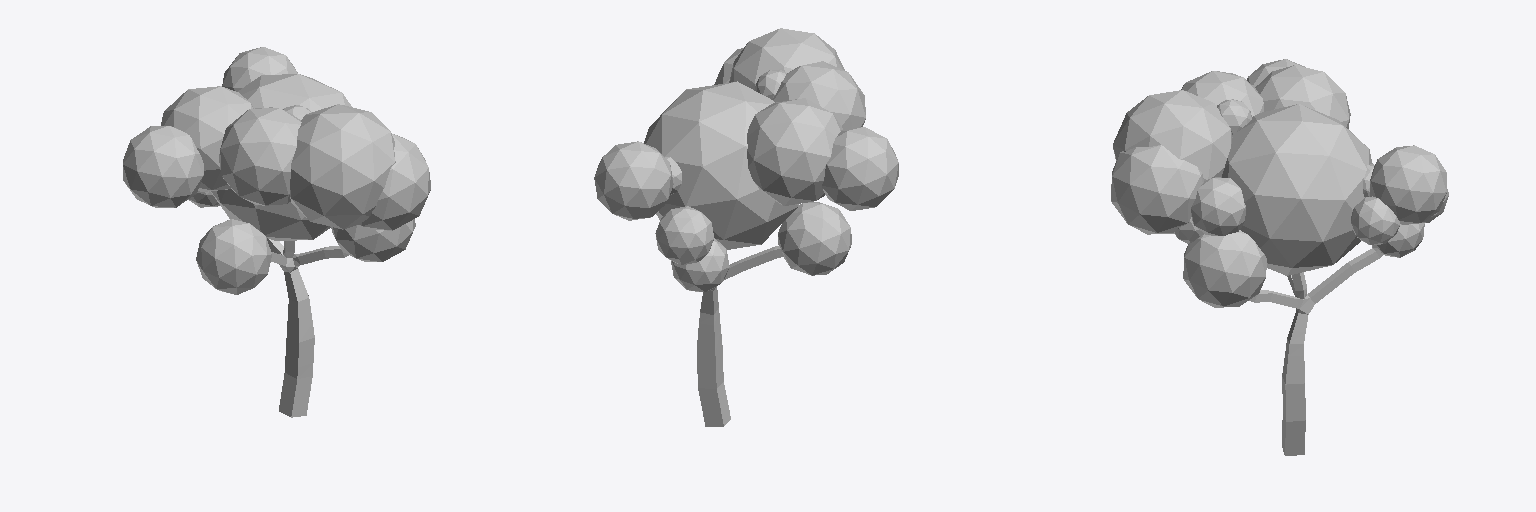
Rendered from tree.obj.
3 views of the same model, side by side, from view 1: azimuth 30°, elevation 25°; view 2: azimuth 150°, elevation 25°; view 3: azimuth 270°, elevation 25° (orthographic).
Visible parts, largest first — view 1: Icosphere.006, Icosphere.002, Icosphere.007, Icosphere.001, Cube, Icosphere.008, Icosphere.005, Icosphere.003, Icosphere.004, Icosphere.009; view 2: Icosphere.007, Icosphere.008, Icosphere.001, Icosphere.009, Icosphere.005, Cube, Icosphere.006, Icosphere.002, Icosphere, Icosphere.013, Icosphere.011; view 3: Icosphere.007, Icosphere.006, Icosphere.003, Cube, Icosphere.004, Icosphere.009, Icosphere.008, Icosphere.015, Icosphere.002, Icosphere.010, Icosphere.013, Icosphere.011 (+1 smaller).
Boxes of the visible parts, x1,y1,x2,y2 form: Icosphere.006: [290, 104, 395, 229]; Icosphere.002: [219, 107, 301, 205]; Icosphere.007: [210, 74, 351, 240]; Icosphere.001: [123, 126, 203, 207]; Cube: [267, 238, 348, 417]; Icosphere.008: [161, 86, 253, 191]; Icosphere.005: [196, 219, 271, 294]; Icosphere.003: [360, 134, 430, 230]; Icosphere.004: [331, 219, 415, 261]; Icosphere.009: [222, 47, 297, 91]; Icosphere.007: [644, 81, 798, 249]; Icosphere.008: [747, 98, 842, 205]; Icosphere.001: [822, 127, 898, 210]; Icosphere.009: [594, 141, 673, 220]; Icosphere.005: [778, 202, 851, 275]; Cube: [697, 246, 783, 426]; Icosphere.006: [729, 28, 844, 90]; Icosphere.002: [772, 61, 865, 129]; Icosphere: [655, 206, 713, 264]; Icosphere.013: [671, 238, 729, 291]; Icosphere.011: [755, 70, 786, 99]; Icosphere.007: [1222, 104, 1372, 275]; Icosphere.006: [1113, 90, 1232, 180]; Icosphere.003: [1111, 145, 1203, 234]; Cube: [1249, 248, 1383, 455]; Icosphere.004: [1183, 230, 1266, 307]; Icosphere.009: [1370, 145, 1446, 224]; Icosphere.008: [1255, 65, 1350, 128]; Icosphere.015: [1191, 177, 1245, 235]; Icosphere.002: [1181, 71, 1263, 116]; Icosphere.010: [1351, 196, 1399, 244]; Icosphere.013: [1372, 223, 1424, 257]; Icosphere.011: [1217, 99, 1251, 134].
Bounding box in the file's own units: 1.94 × 2.56 × 2.25.